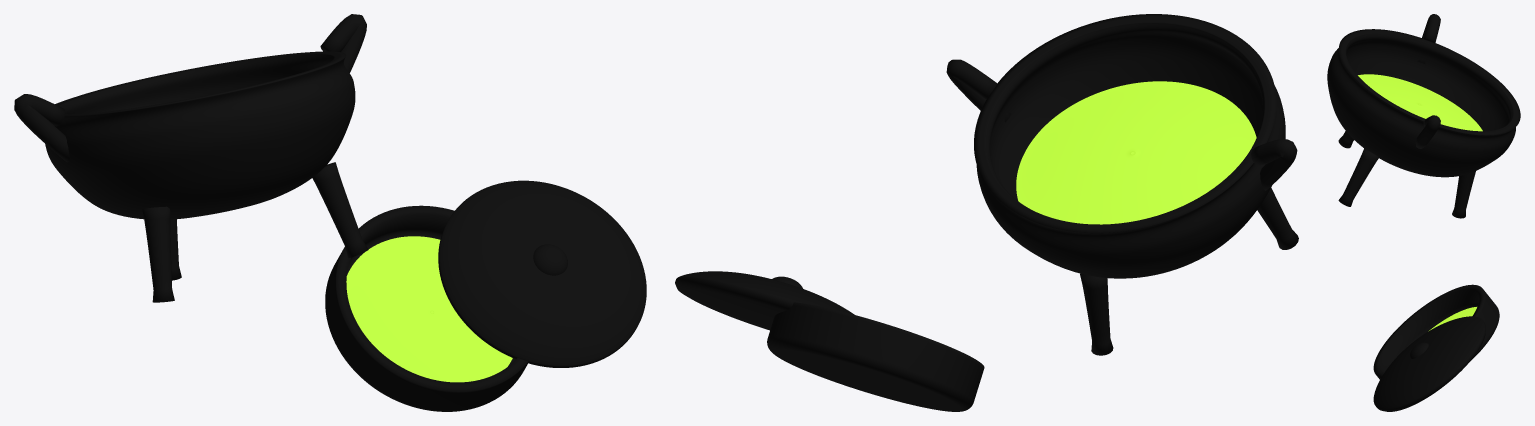
3 renders of one model, left to right at view 1: azimuth 30°, elevation 25°; view 2: azimuth 150°, elevation 25°; view 3: azimuth 270°, elevation 25°, orthographic. The views are drawn at different scales.
Parts seen in each view (by area): view 1: koro, futa, kou, kogo; view 2: koro, hai, kogo, futa; view 3: koro, futa, kogo, hai, kou.
Boxes of the visible parts, x1,y1,x2,y2 form: koro: (14, 14, 368, 302); futa: (438, 180, 646, 367); kou: (346, 236, 512, 382); kogo: (325, 205, 527, 411); koro: (946, 14, 1298, 355); hai: (1016, 81, 1256, 224); kogo: (767, 302, 984, 411); futa: (675, 271, 854, 330); koro: (1327, 14, 1520, 218); futa: (1373, 316, 1485, 411); kogo: (1373, 284, 1499, 379); hai: (1358, 74, 1482, 131); kou: (1428, 307, 1476, 331).
Bounding box in the file's own units: 2.16 × 1.39 × 0.9265.
